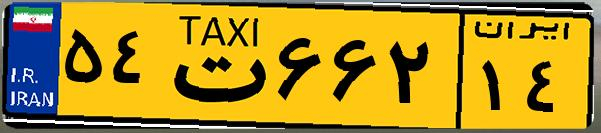1: (475, 38, 525, 113)
2: (385, 28, 445, 110)
4: (525, 38, 570, 115), (110, 28, 158, 98)
5: (57, 26, 110, 100)
6: (270, 28, 330, 110), (330, 28, 385, 110)
ت: (158, 12, 270, 120)
